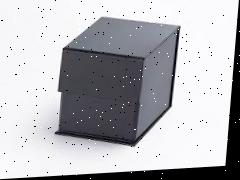cube: (55, 13, 182, 153)
